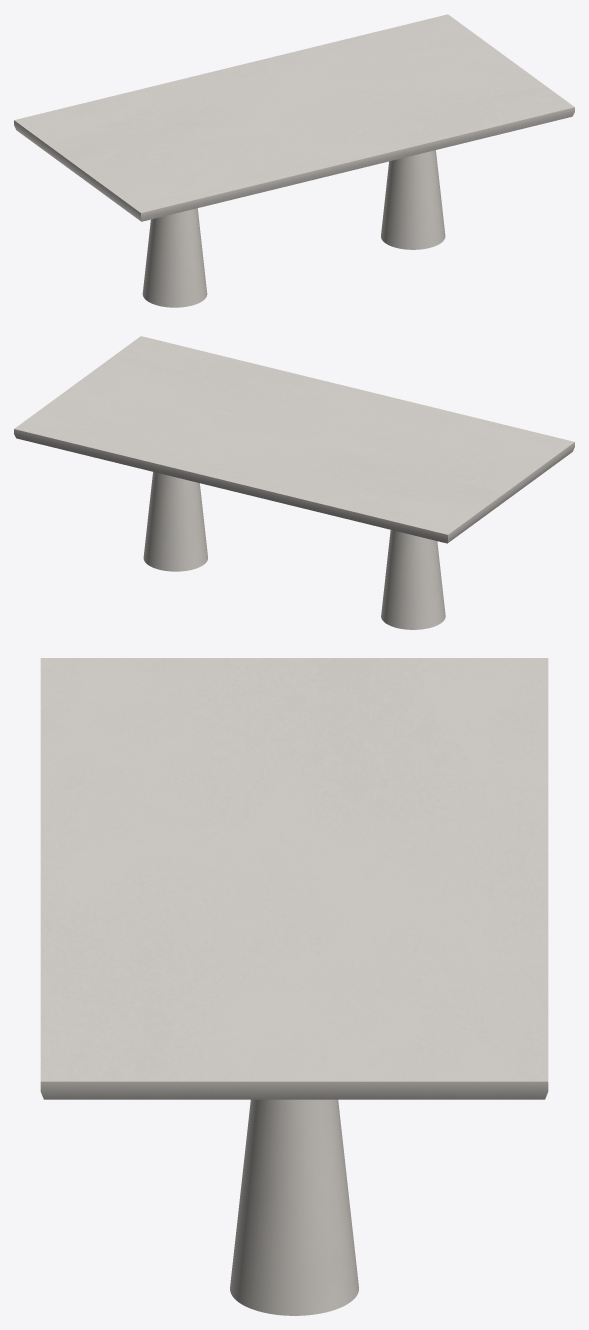
File: pearlwhite_recta_facet_pebble.glb
The picture shows the model from 3 angles, top to bottom: view 1: azimuth 30°, elevation 25°; view 2: azimuth 150°, elevation 25°; view 3: azimuth 270°, elevation 25°; orthographic projection. The views are drawn at different scales.
Parts seen in each view (by area): view 1: tabletop_recta_facet.006, tableleg_pebble.019; view 2: tabletop_recta_facet.006, tableleg_pebble.019; view 3: tabletop_recta_facet.006, tableleg_pebble.019.
Part boxes in pixels (bbox=[...]): tabletop_recta_facet.006: bbox=[14, 14, 574, 221]; tableleg_pebble.019: bbox=[142, 150, 445, 307]; tabletop_recta_facet.006: bbox=[14, 336, 574, 543]; tableleg_pebble.019: bbox=[143, 472, 445, 629]; tabletop_recta_facet.006: bbox=[40, 658, 548, 1099]; tableleg_pebble.019: bbox=[230, 1099, 358, 1315].
Size of the model in its own units: 7.5 by 2.5 by 3.8.
1 material, 1 textured.
